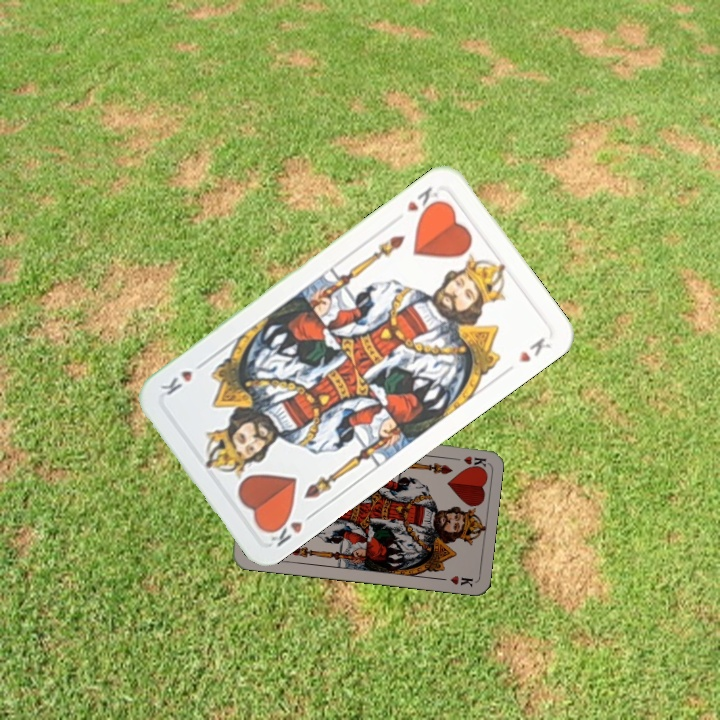HK: (263, 507, 319, 550), (402, 182, 445, 220), (447, 452, 488, 470)
